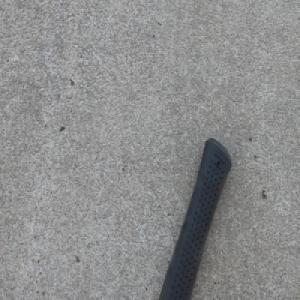Hammer: (156, 134, 234, 300)
